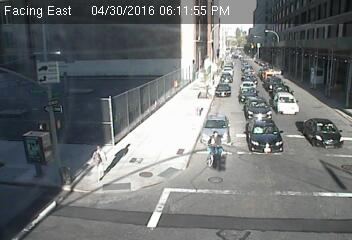neg: (193, 123, 232, 175), (108, 132, 132, 163), (125, 18, 148, 48), (161, 73, 182, 102), (302, 67, 318, 88), (239, 2, 255, 23), (143, 1, 159, 22), (324, 68, 339, 88), (308, 17, 323, 37), (188, 36, 202, 55), (203, 61, 216, 78), (141, 122, 154, 139), (253, 60, 264, 76), (109, 62, 120, 78), (225, 46, 236, 61), (292, 30, 302, 43)
pos: (84, 142, 111, 178)
